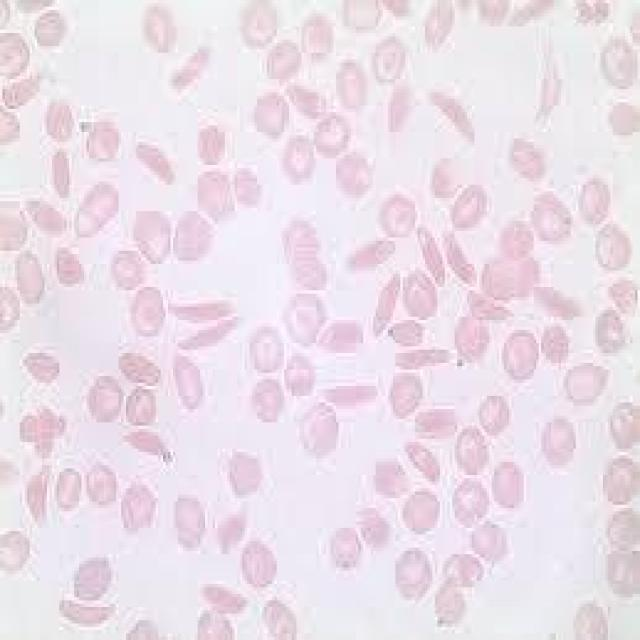RBC: (475, 247, 546, 307), (126, 201, 180, 271), (245, 86, 294, 152), (296, 399, 344, 465), (195, 162, 242, 228), (237, 535, 287, 597), (445, 178, 494, 241), (526, 185, 578, 244), (292, 7, 341, 69), (558, 360, 616, 412), (390, 544, 435, 610), (576, 165, 615, 241), (282, 290, 331, 350), (452, 472, 494, 541), (170, 208, 220, 264), (10, 244, 52, 310), (247, 320, 289, 383), (225, 445, 269, 505), (331, 53, 371, 119), (168, 353, 215, 409), (386, 366, 428, 426), (595, 455, 640, 511), (400, 485, 445, 541), (126, 284, 171, 340), (449, 310, 496, 363), (538, 416, 580, 475), (499, 327, 544, 382), (77, 112, 121, 168), (507, 138, 551, 194), (449, 426, 492, 482), (321, 521, 366, 574), (596, 214, 632, 280), (86, 373, 128, 429), (370, 33, 412, 89), (376, 191, 420, 244), (235, 0, 279, 53), (173, 495, 210, 557), (314, 109, 353, 165), (445, 544, 492, 590), (282, 125, 318, 185), (368, 455, 410, 505), (492, 458, 529, 514), (0, 524, 35, 580), (52, 465, 86, 518), (87, 462, 121, 508)
sickle cell: (524, 40, 568, 138), (430, 82, 487, 152), (314, 376, 385, 416), (131, 136, 180, 192), (173, 320, 245, 356), (528, 280, 586, 324), (119, 426, 178, 468), (371, 274, 405, 343), (54, 594, 119, 630), (166, 294, 237, 326)
